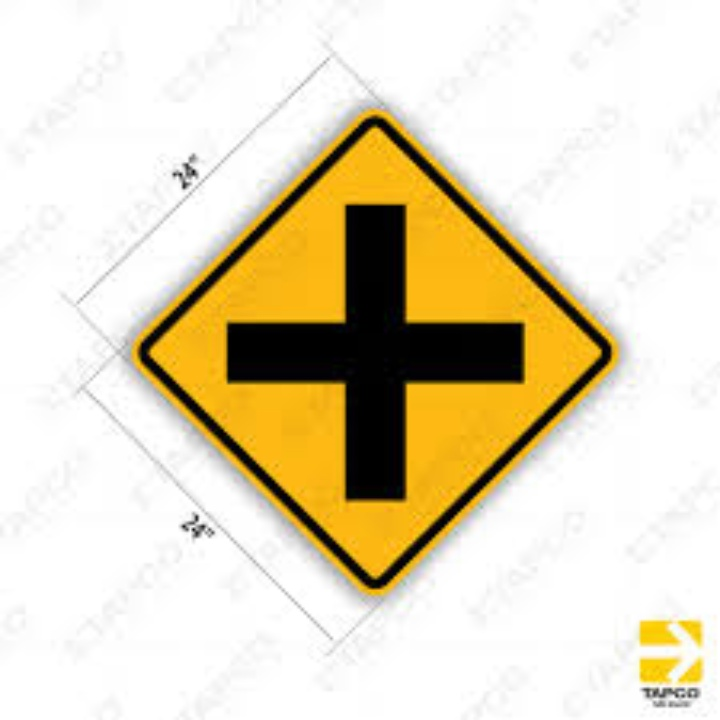inter: (217, 196, 535, 513)
